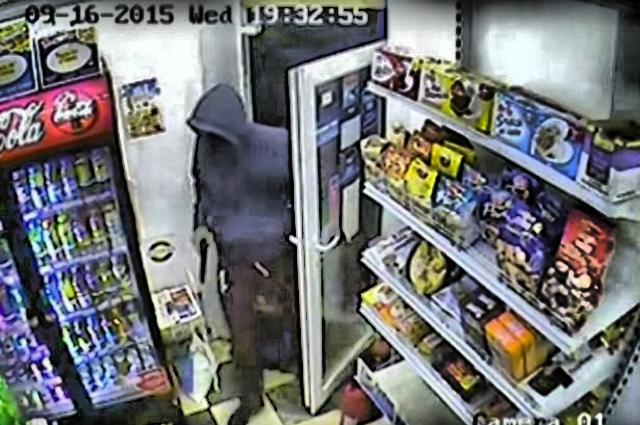pistol: (191, 233, 209, 282)
